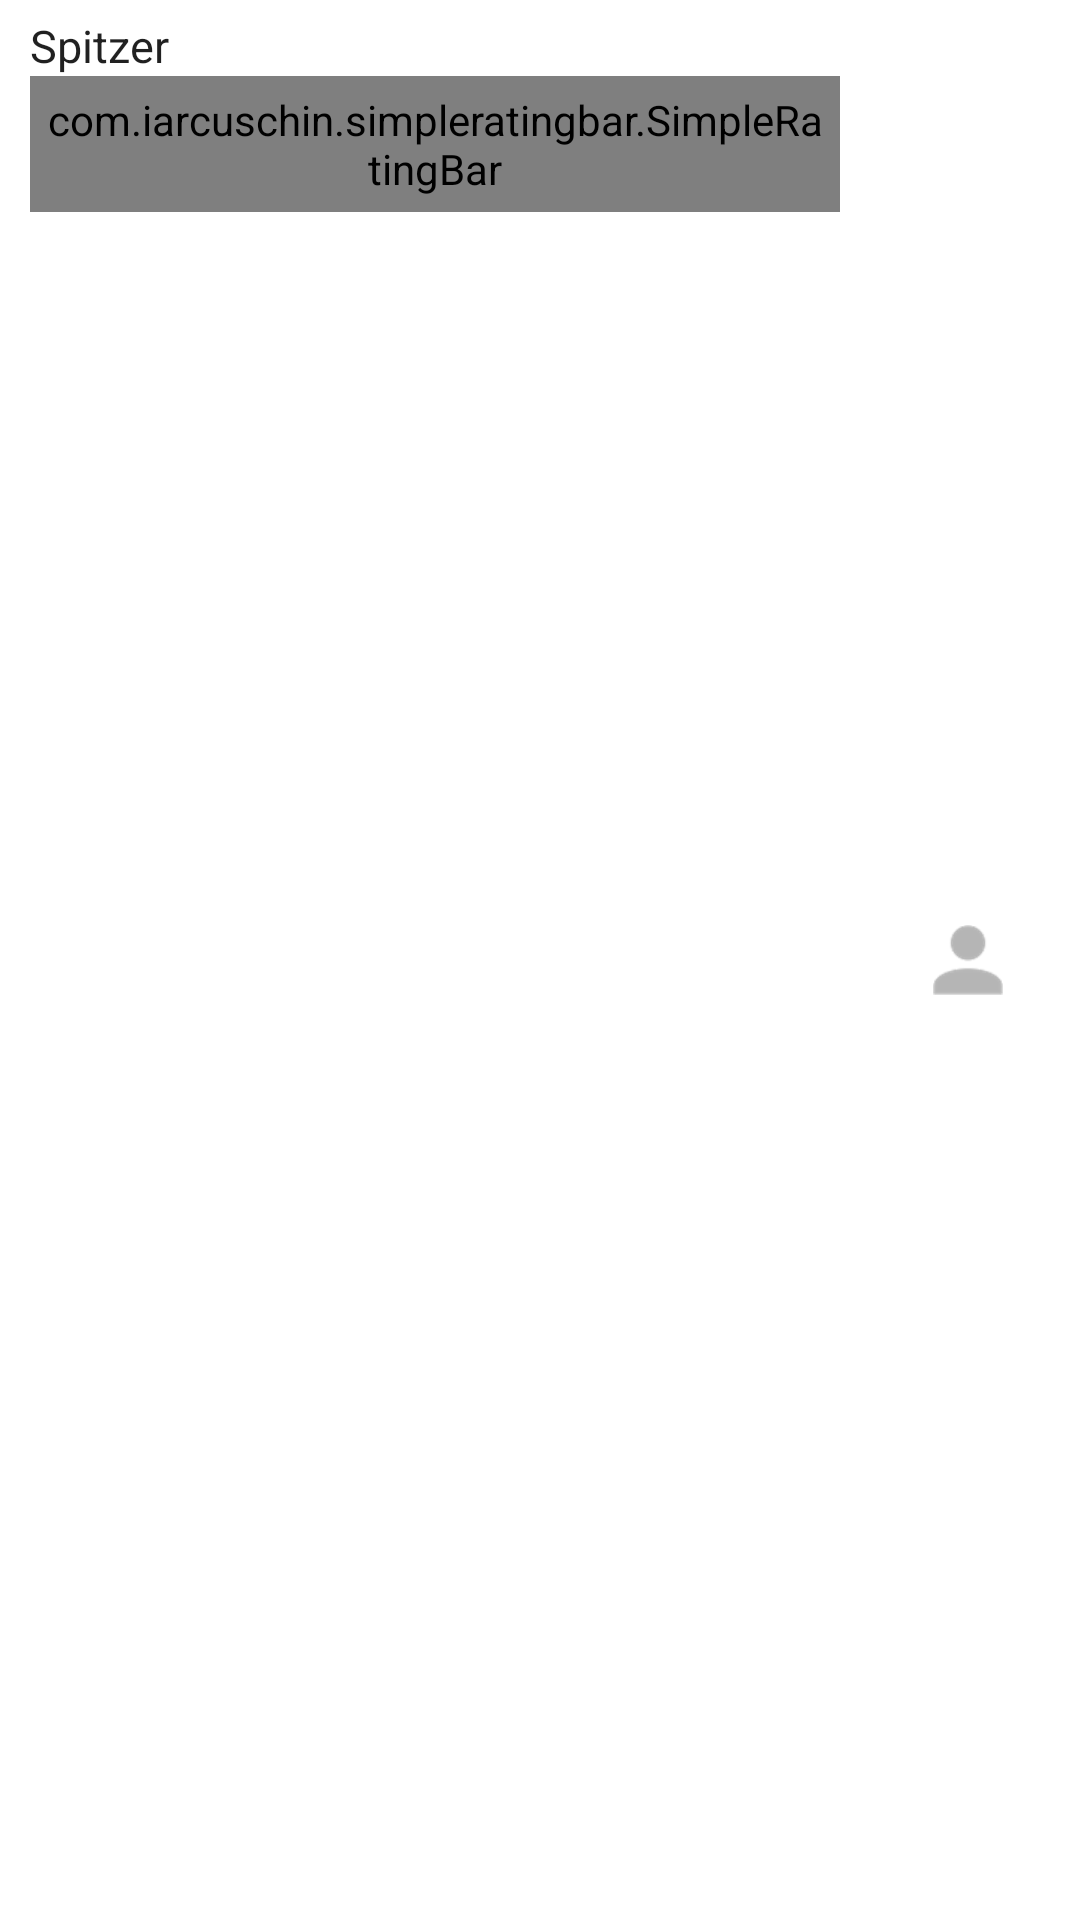

Icon bounding boxes for this 1080px x 1920px phone screenshot, format rect(x1, y1, x2, y2):
profile: rect(933, 925, 1003, 995)
